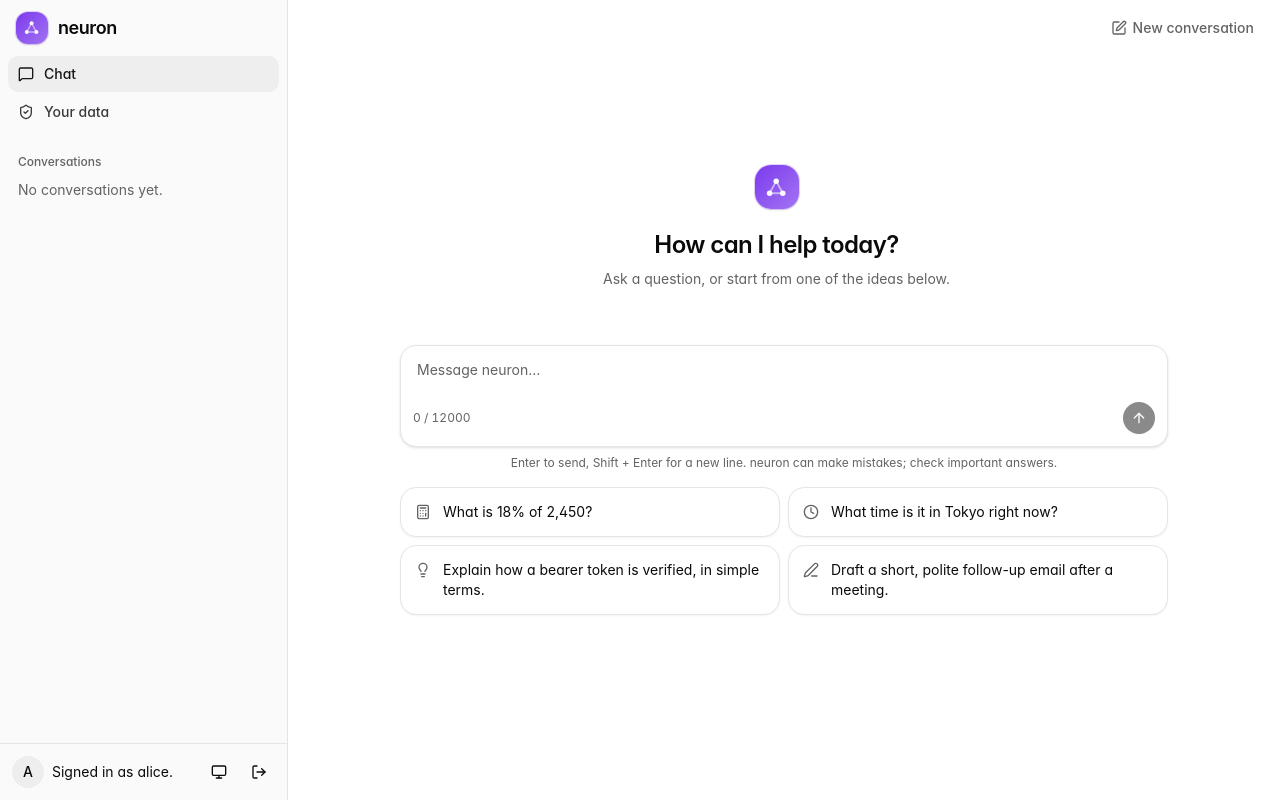
Test case: rating an answer › offers a rating on a finished answer and files it under that run
Click the text box labelled "Message": coordinates (784, 374) [401,346,1167,402]
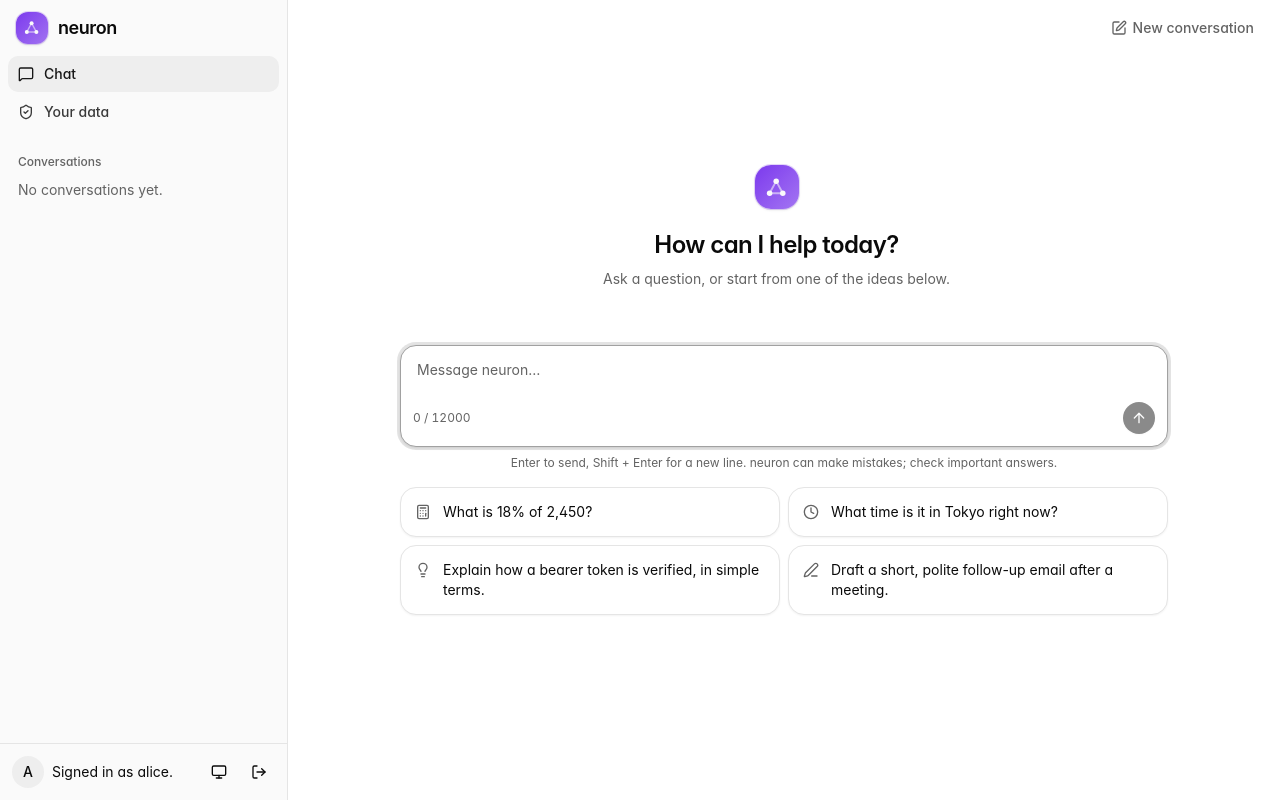
Type keys "hello there"
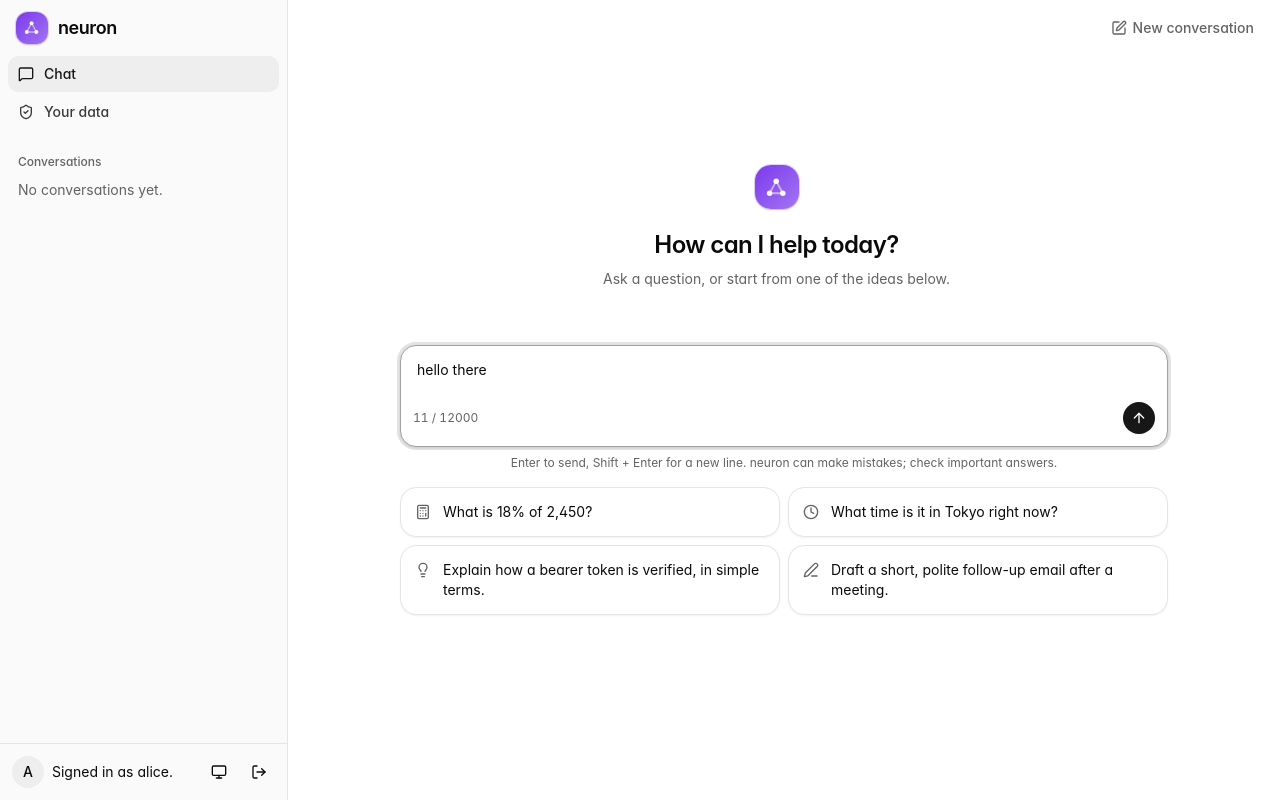
Click the button named "Send": coordinates (1139, 418) [1123,402,1155,434]
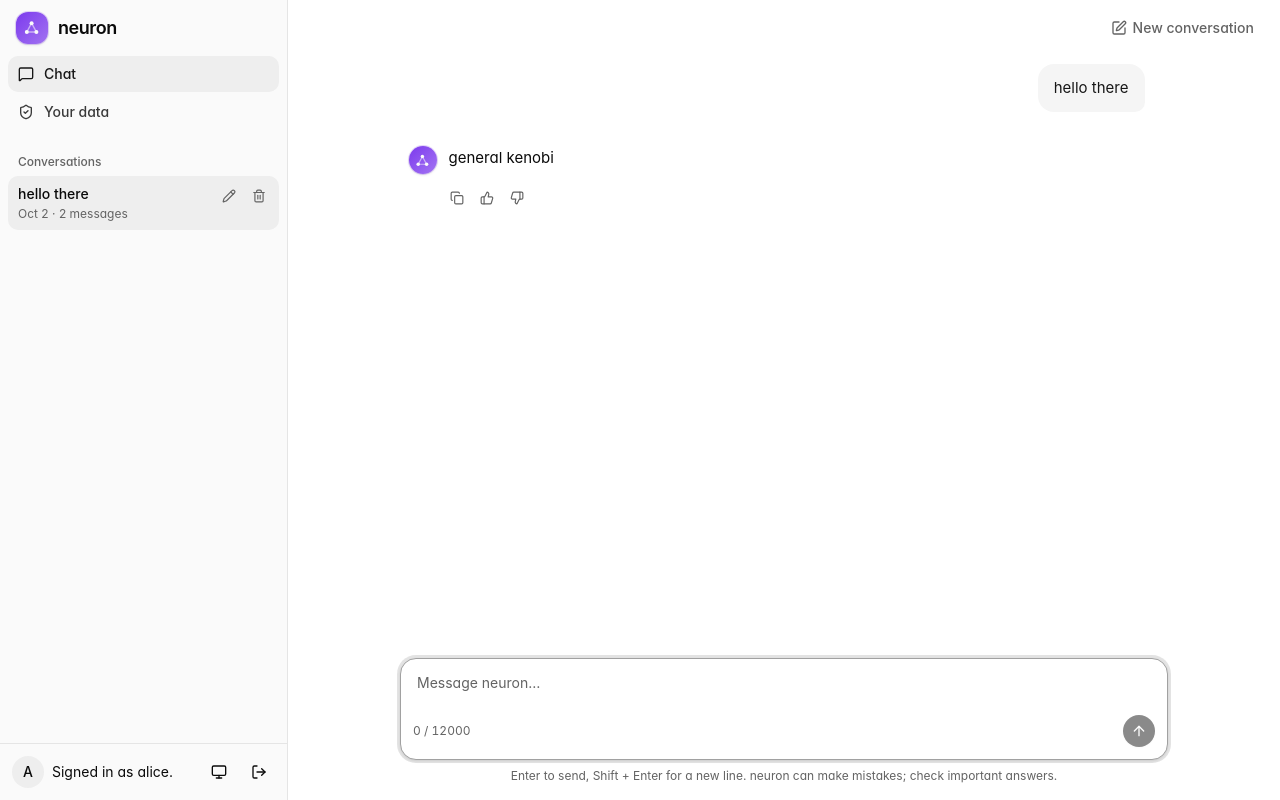
Result: the text "general kenobi" is shown at [448,148,554,167]
Click the button named "Helpful": coordinates (486, 198) [472,184,500,212]
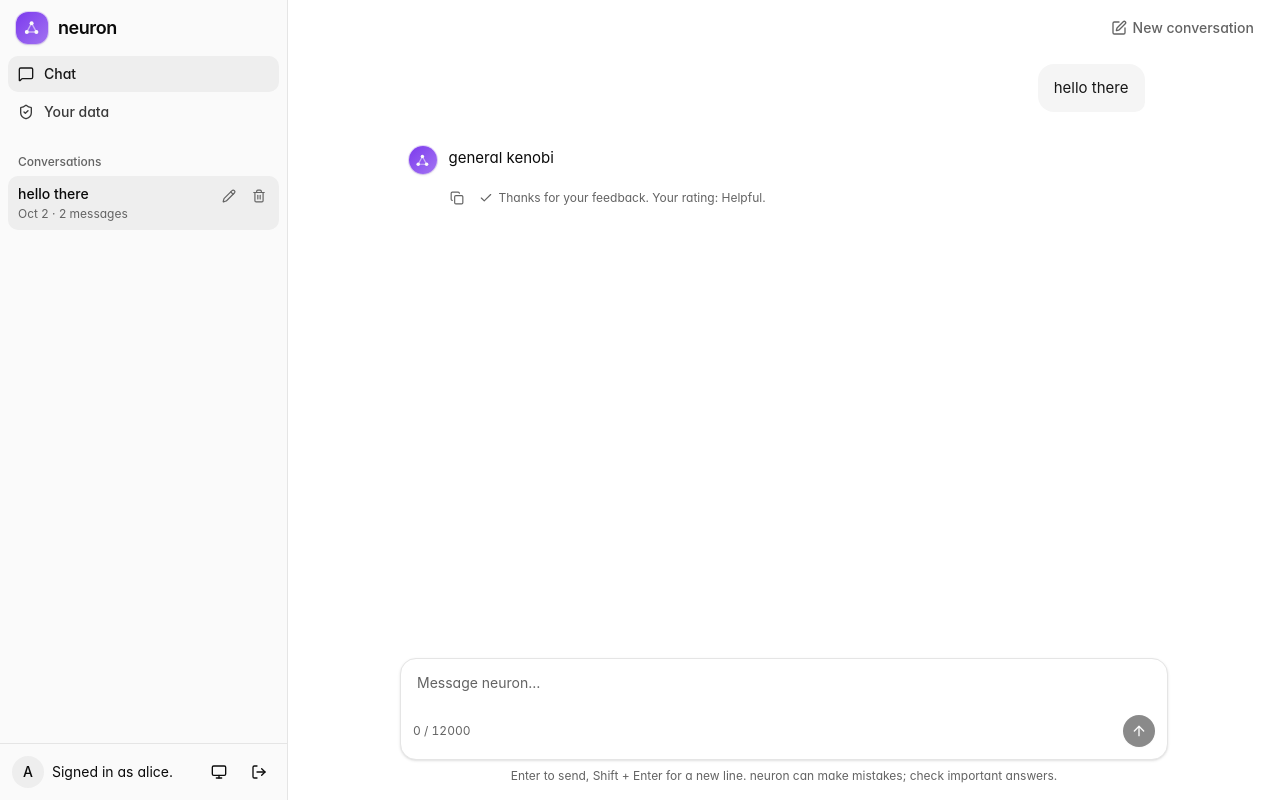
Result: the text "Thanks for your feedback. Your rating: Helpful." is shown at [472,190,772,206]
